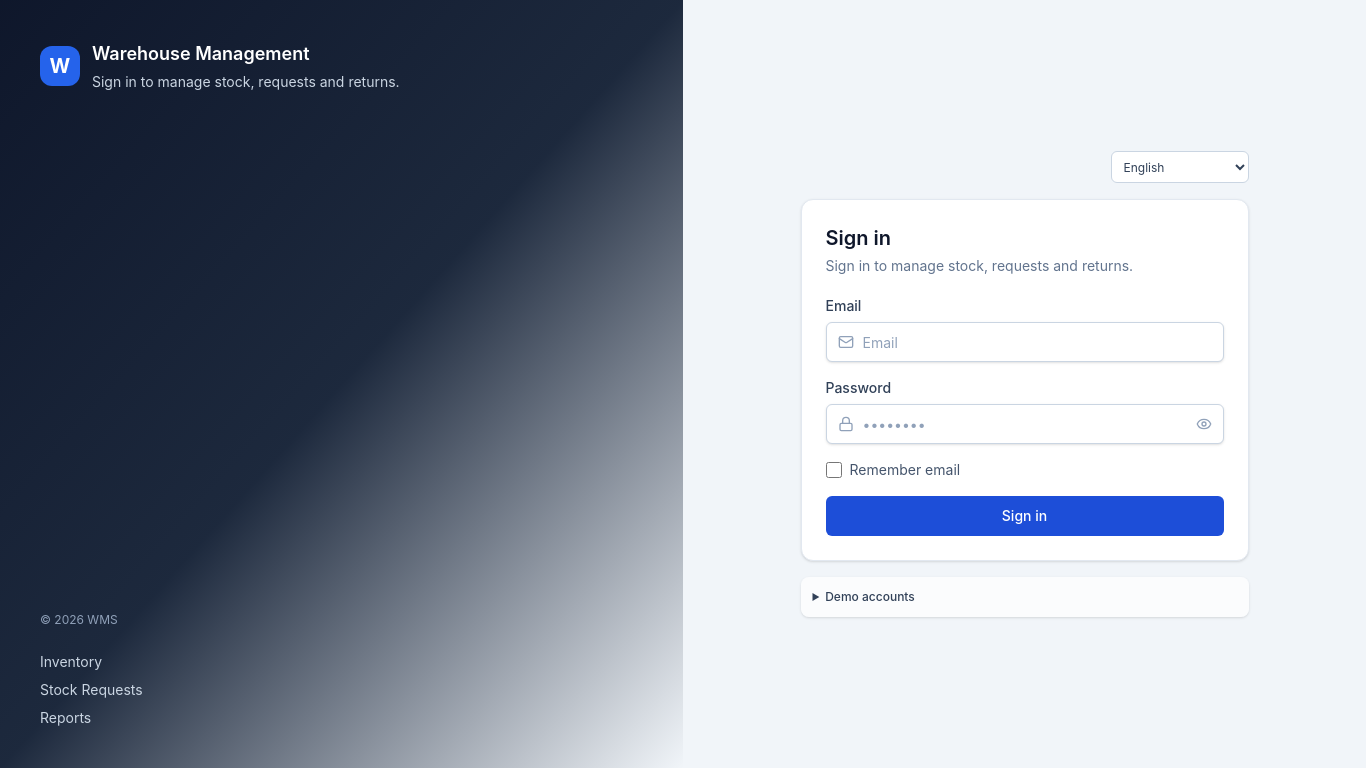
Scenario: LoginPage › validates empty input
Click the button "Sign in".
click(1024, 516)  # box top-left (826, 496), bottom-right (1224, 536)
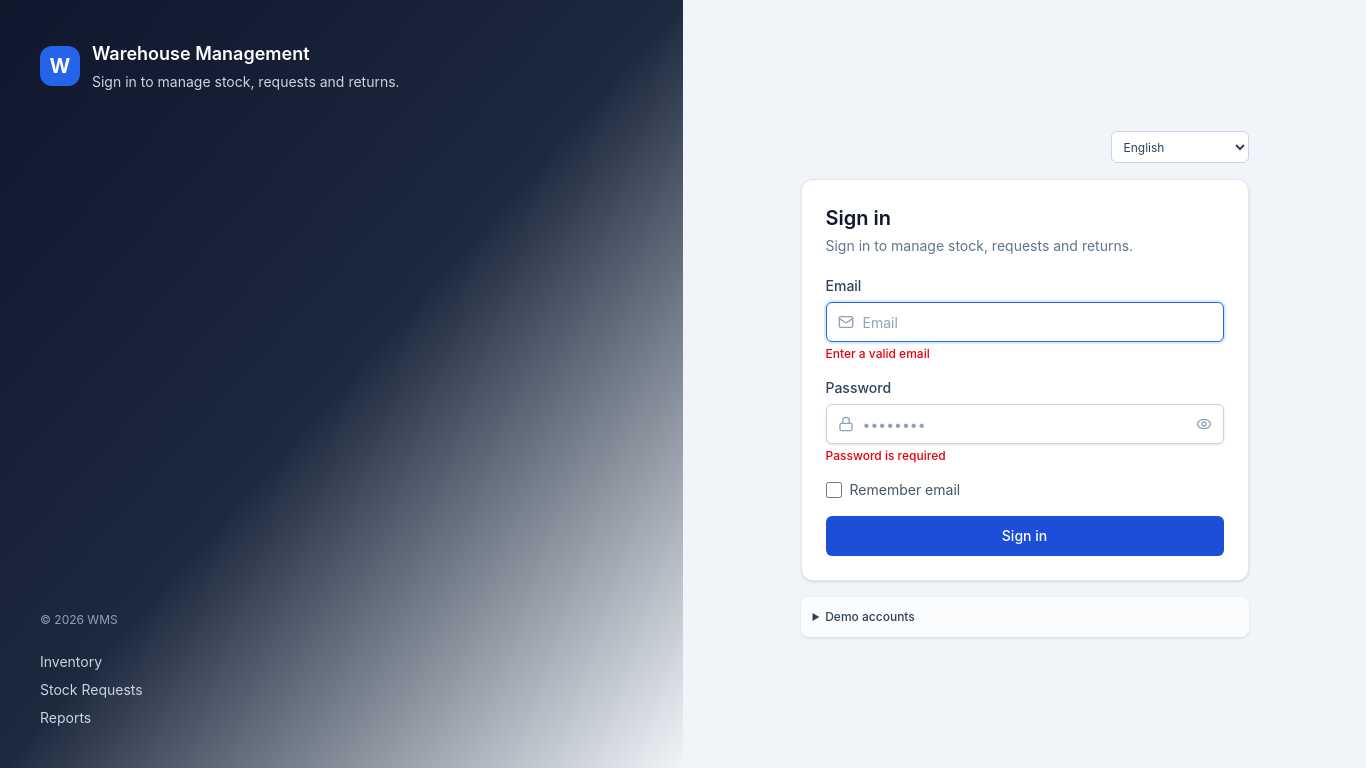
Now the text "Enter a valid email" is shown, box top-left (826, 346), bottom-right (930, 361)
Now the text "Password is required" is shown, box top-left (826, 448), bottom-right (946, 463)
